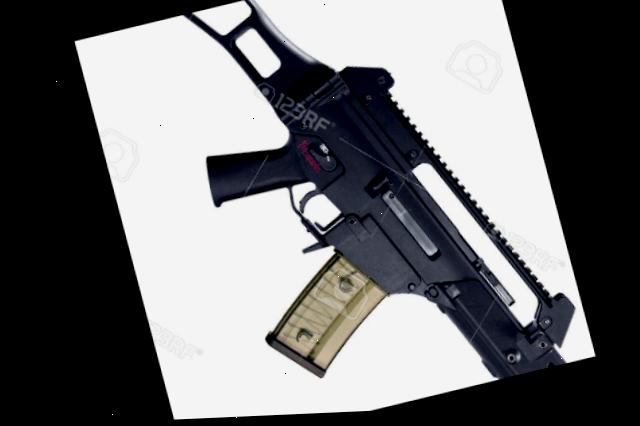rifle: (70, 0, 591, 424)
